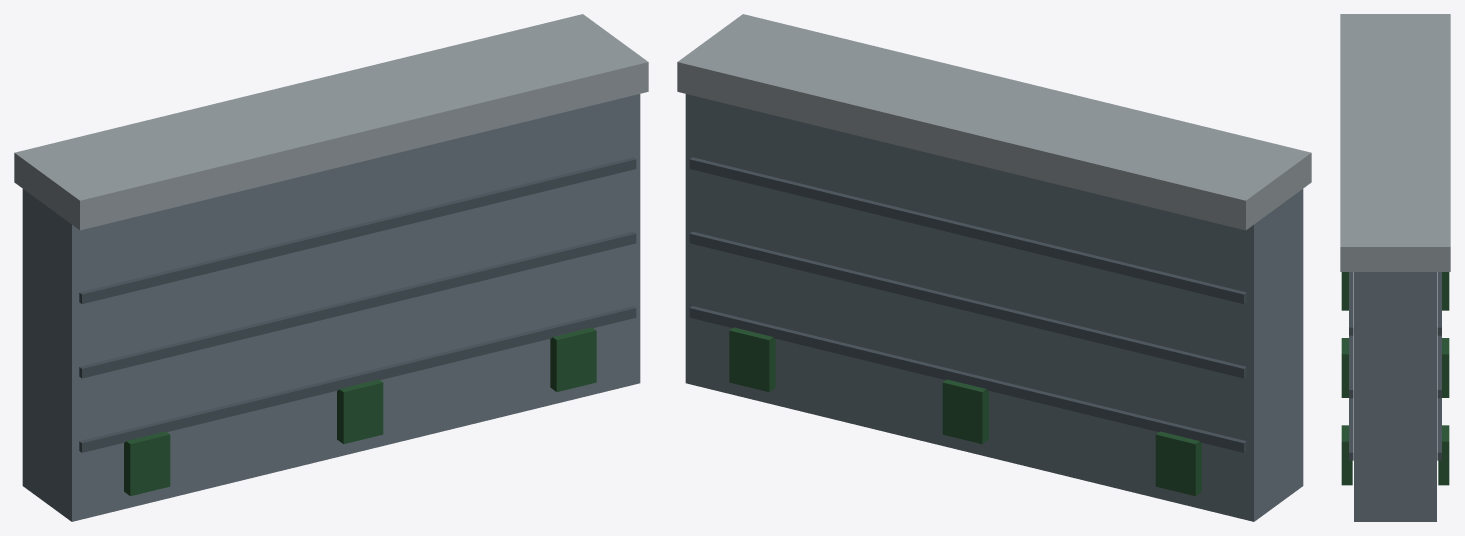
The model's file is Blockland_RetainingWallStraight_Showcase.glb.
The picture shows the model from 3 angles, left to right: view 1: azimuth 30°, elevation 25°; view 2: azimuth 150°, elevation 25°; view 3: azimuth 270°, elevation 25°; orthographic projection. The views are drawn at different scales.
Parts seen in each view (by area): view 1: Blockland_RetainingWallStraight_Showcase; view 2: Blockland_RetainingWallStraight_Showcase; view 3: Blockland_RetainingWallStraight_Showcase.
Part boxes in pixels (<box>): Blockland_RetainingWallStraight_Showcase: <box>14,14,648,521</box>; Blockland_RetainingWallStraight_Showcase: <box>677,14,1311,521</box>; Blockland_RetainingWallStraight_Showcase: <box>1340,14,1450,521</box>.
Bounding box in the file's own units: 4 × 2.2 × 0.8.
